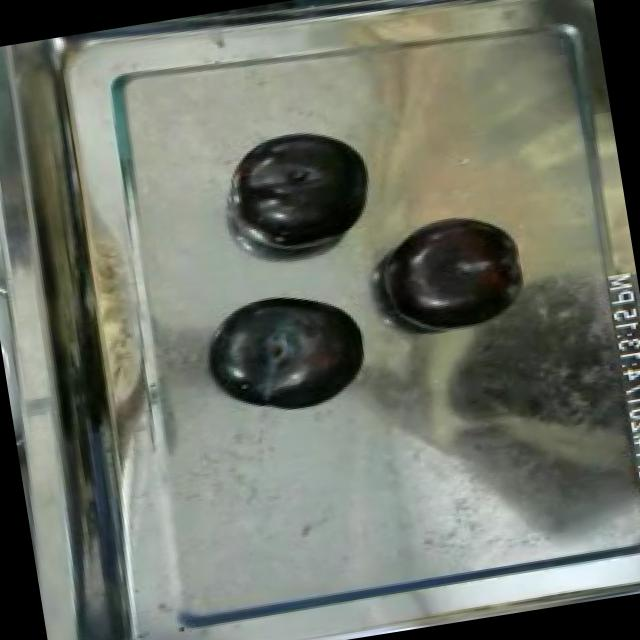Fruit: (198, 282, 376, 428), (224, 123, 380, 257), (376, 212, 534, 343)
